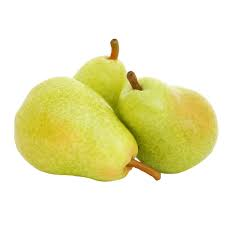pear: (11, 77, 158, 194), (118, 75, 225, 175)
